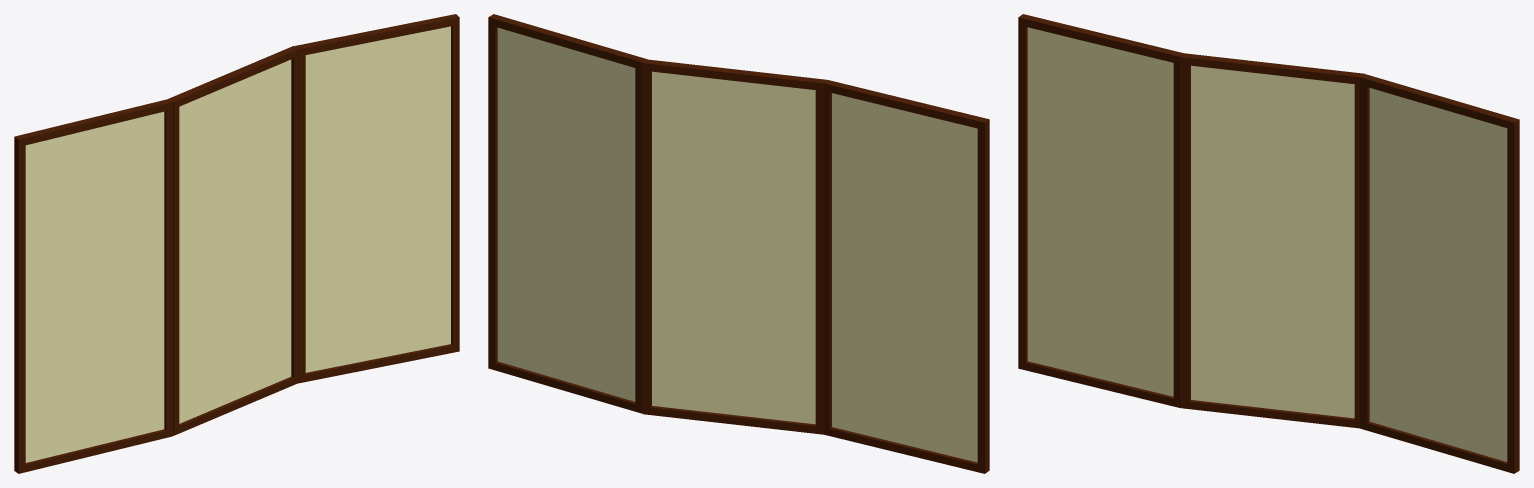
File: cover.fbx
3 views of the same model, side by side, from view 1: azimuth 30°, elevation 25°; view 2: azimuth 150°, elevation 25°; view 3: azimuth 330°, elevation 25° (orthographic). The views are drawn at different scales.
Parts seen in each view (by area): view 1: cover; view 2: cover; view 3: cover.
Part boxes in pixels (x1,y1,x2,y2): cover: (14, 14, 459, 473); cover: (488, 14, 989, 473); cover: (1018, 14, 1519, 473).
Size of the model in its own units: 286 by 200 by 29.94.
